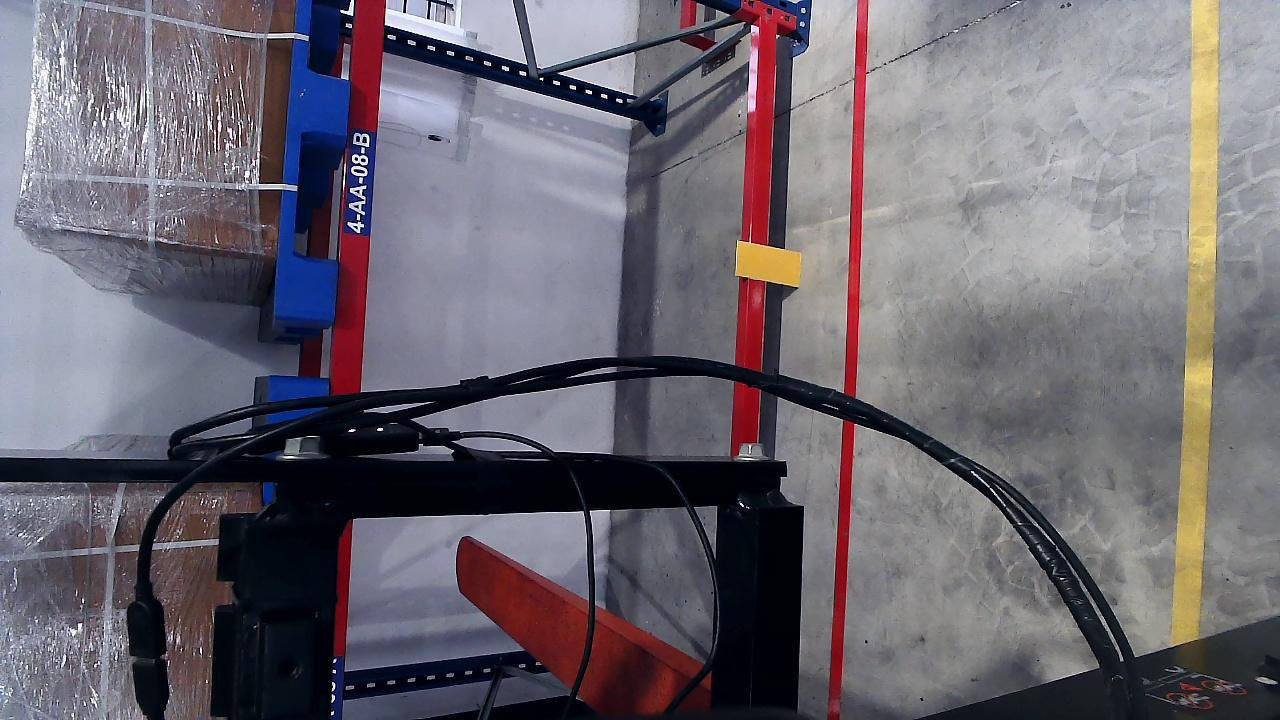h_rack: (330, 0, 388, 395), (742, 16, 780, 354)
orange_strip: (735, 241, 801, 287)
red_line: (843, 2, 868, 393), (825, 411, 857, 713)
small_pallet: (270, 0, 363, 316)
yellow_line: (1172, 87, 1221, 645)
